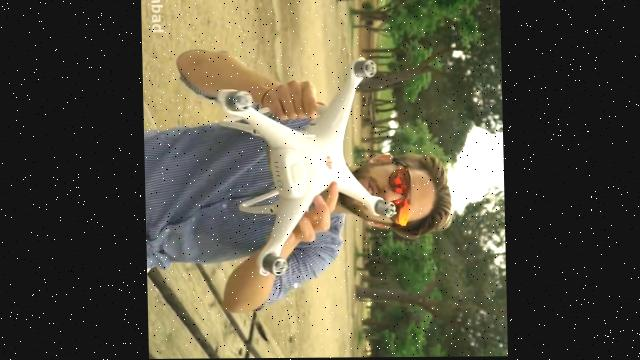drone: (215, 56, 397, 278)
